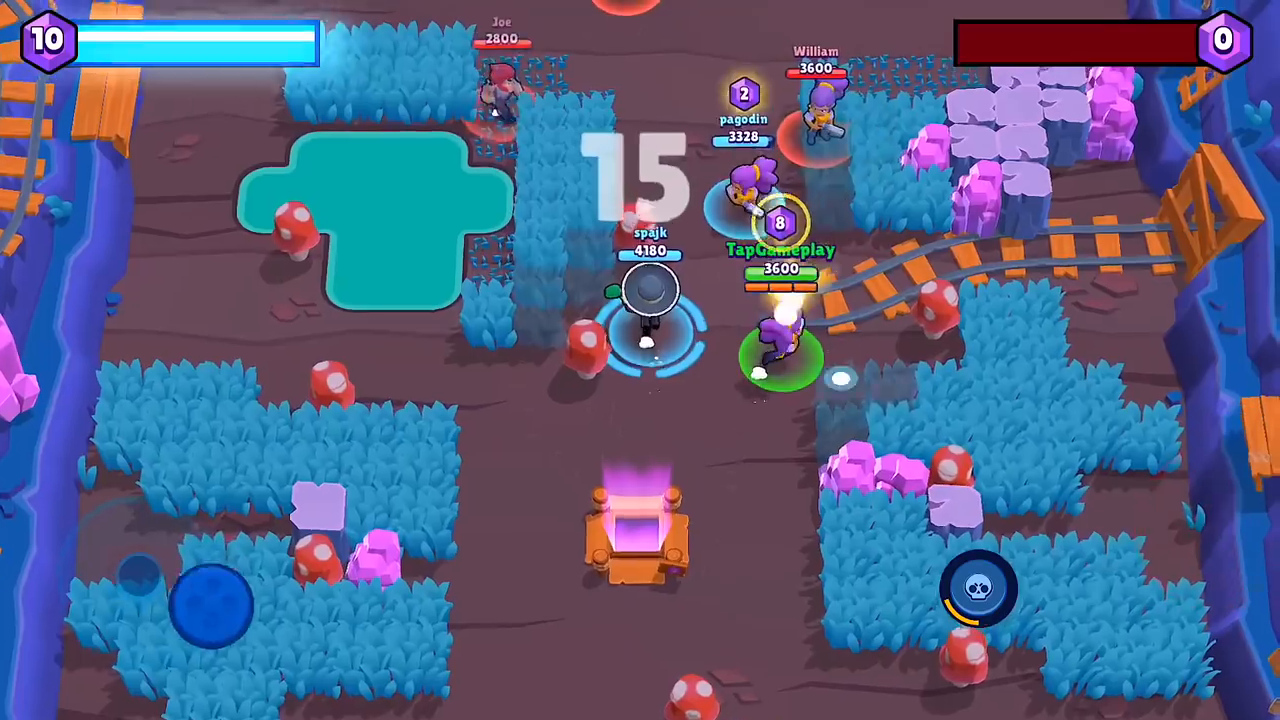move_stick: (181, 564, 242, 649)
red: (784, 43, 864, 195), (461, 32, 539, 125)
